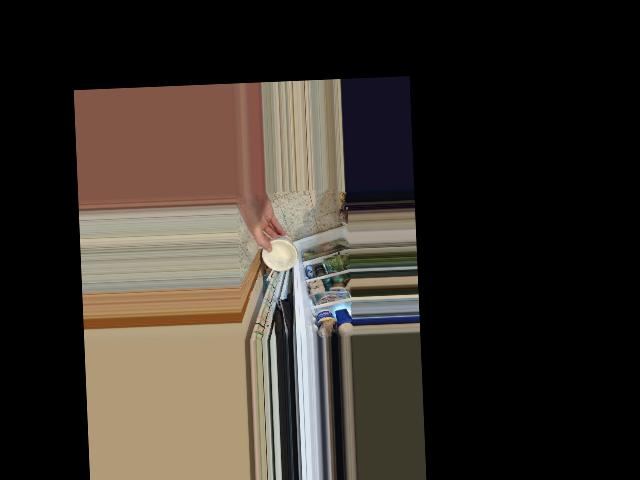cotage: (265, 233, 297, 272)
